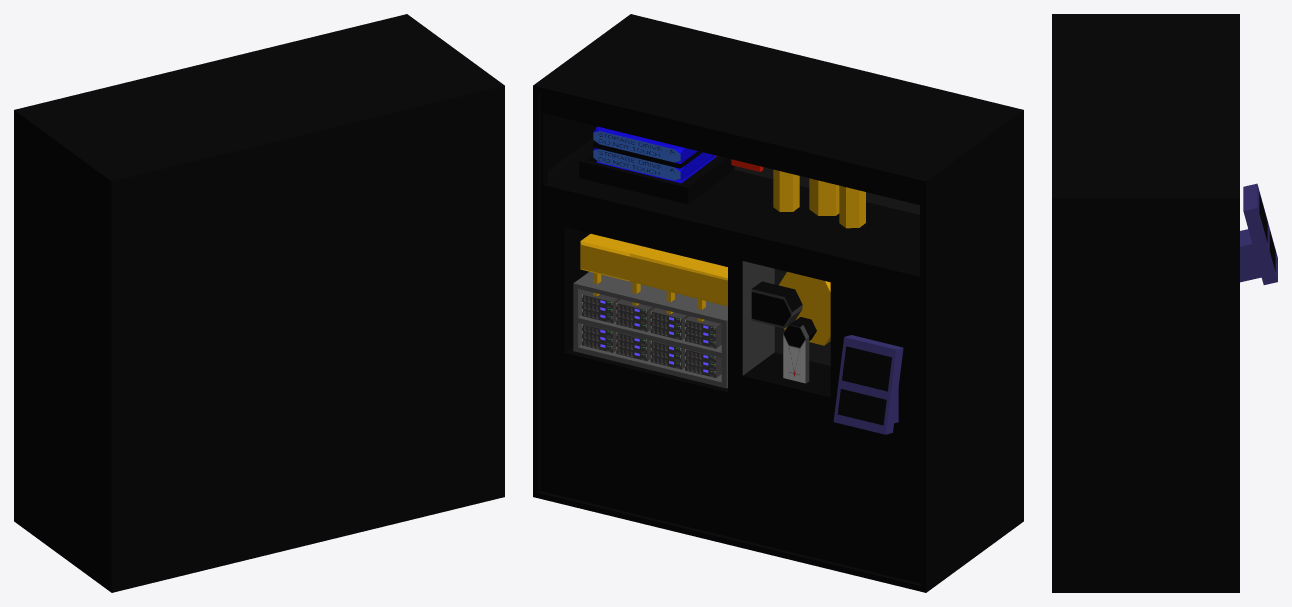
The model's file is Server.glb.
The picture shows the model from 3 angles, left to right: view 1: azimuth 30°, elevation 25°; view 2: azimuth 150°, elevation 25°; view 3: azimuth 270°, elevation 25°; orthographic projection. The views are drawn at different scales.
Visible parts, largest first — view 1: Cube; view 2: Cube, Cube.016, Cube.009, Cube.004, Cube.002, Cube.006, Cube.014, Cube.005, Cube.010, Cube.012, Cube.013, Cube.011 (+1 smaller); view 3: Cube, Cube.004.
Boxes of the visible parts, x1,y1,x2,y2 form: Cube: (14,14,504,592); Cube: (533,14,1023,592); Cube.016: (580,166,919,365); Cube.009: (573,272,727,388); Cube.004: (833,335,903,434); Cube.002: (773,169,865,228); Cube.006: (593,126,697,162); Cube.014: (582,291,721,334); Cube.005: (593,143,715,180); Cube.010: (582,324,721,363); Cube.012: (582,302,721,341); Cube.013: (582,331,721,370); Cube.011: (582,309,721,348); Cube: (1052,14,1239,592); Cube.004: (1240,183,1277,284).
Size of the model in its own units: 1.65 by 1.65 by 0.8554.
Materials: 46 (7 with a texture image).
